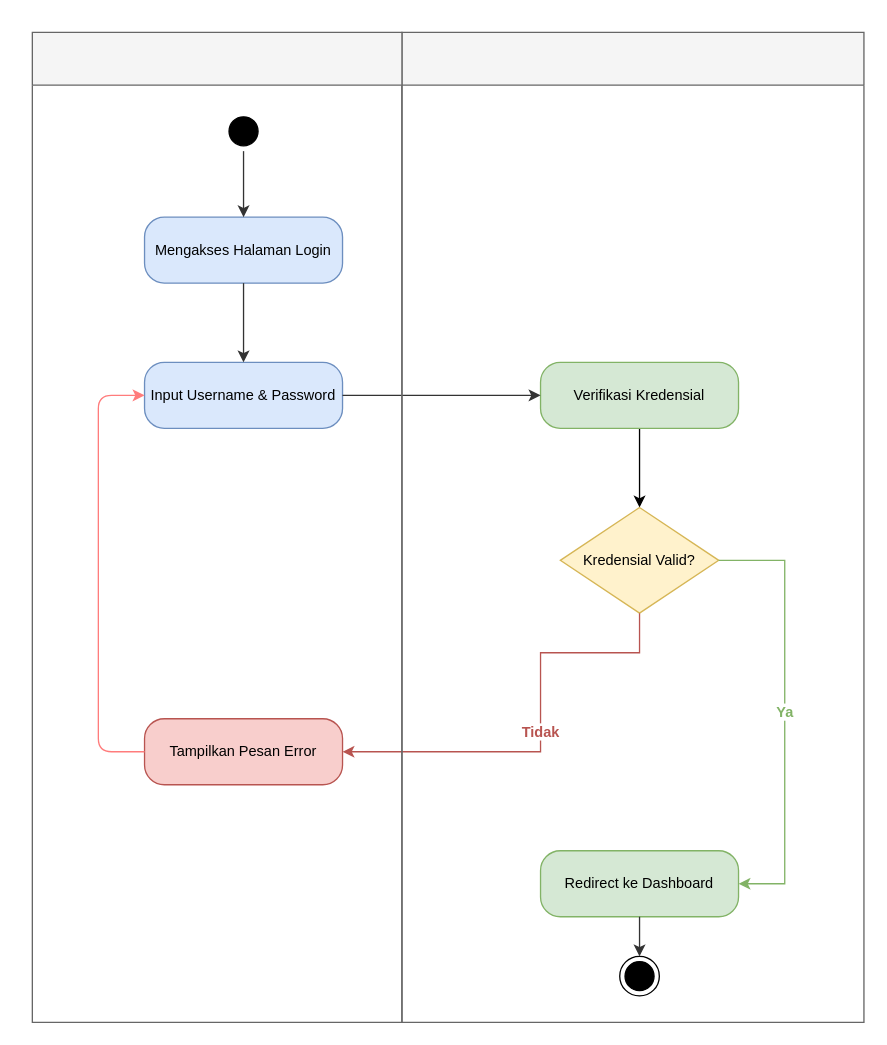
Image size: 887x1045. Some labels were removed from this diagram. Each missing label, with the box of its shape:
Sistem: (401, 31, 864, 1022)
User: (31, 31, 402, 1022)
